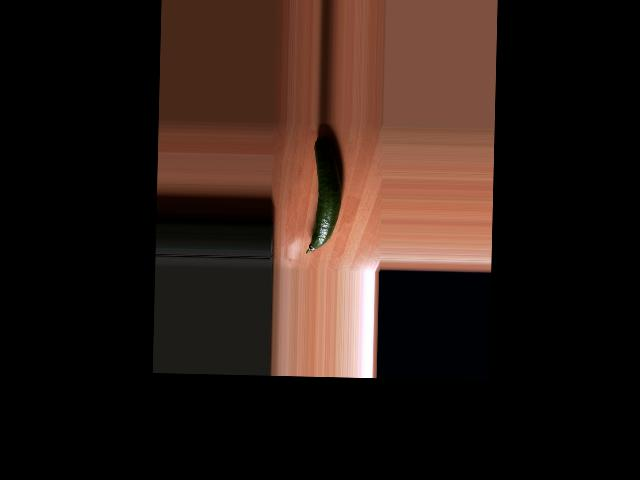cucumber: (306, 135, 343, 255)
